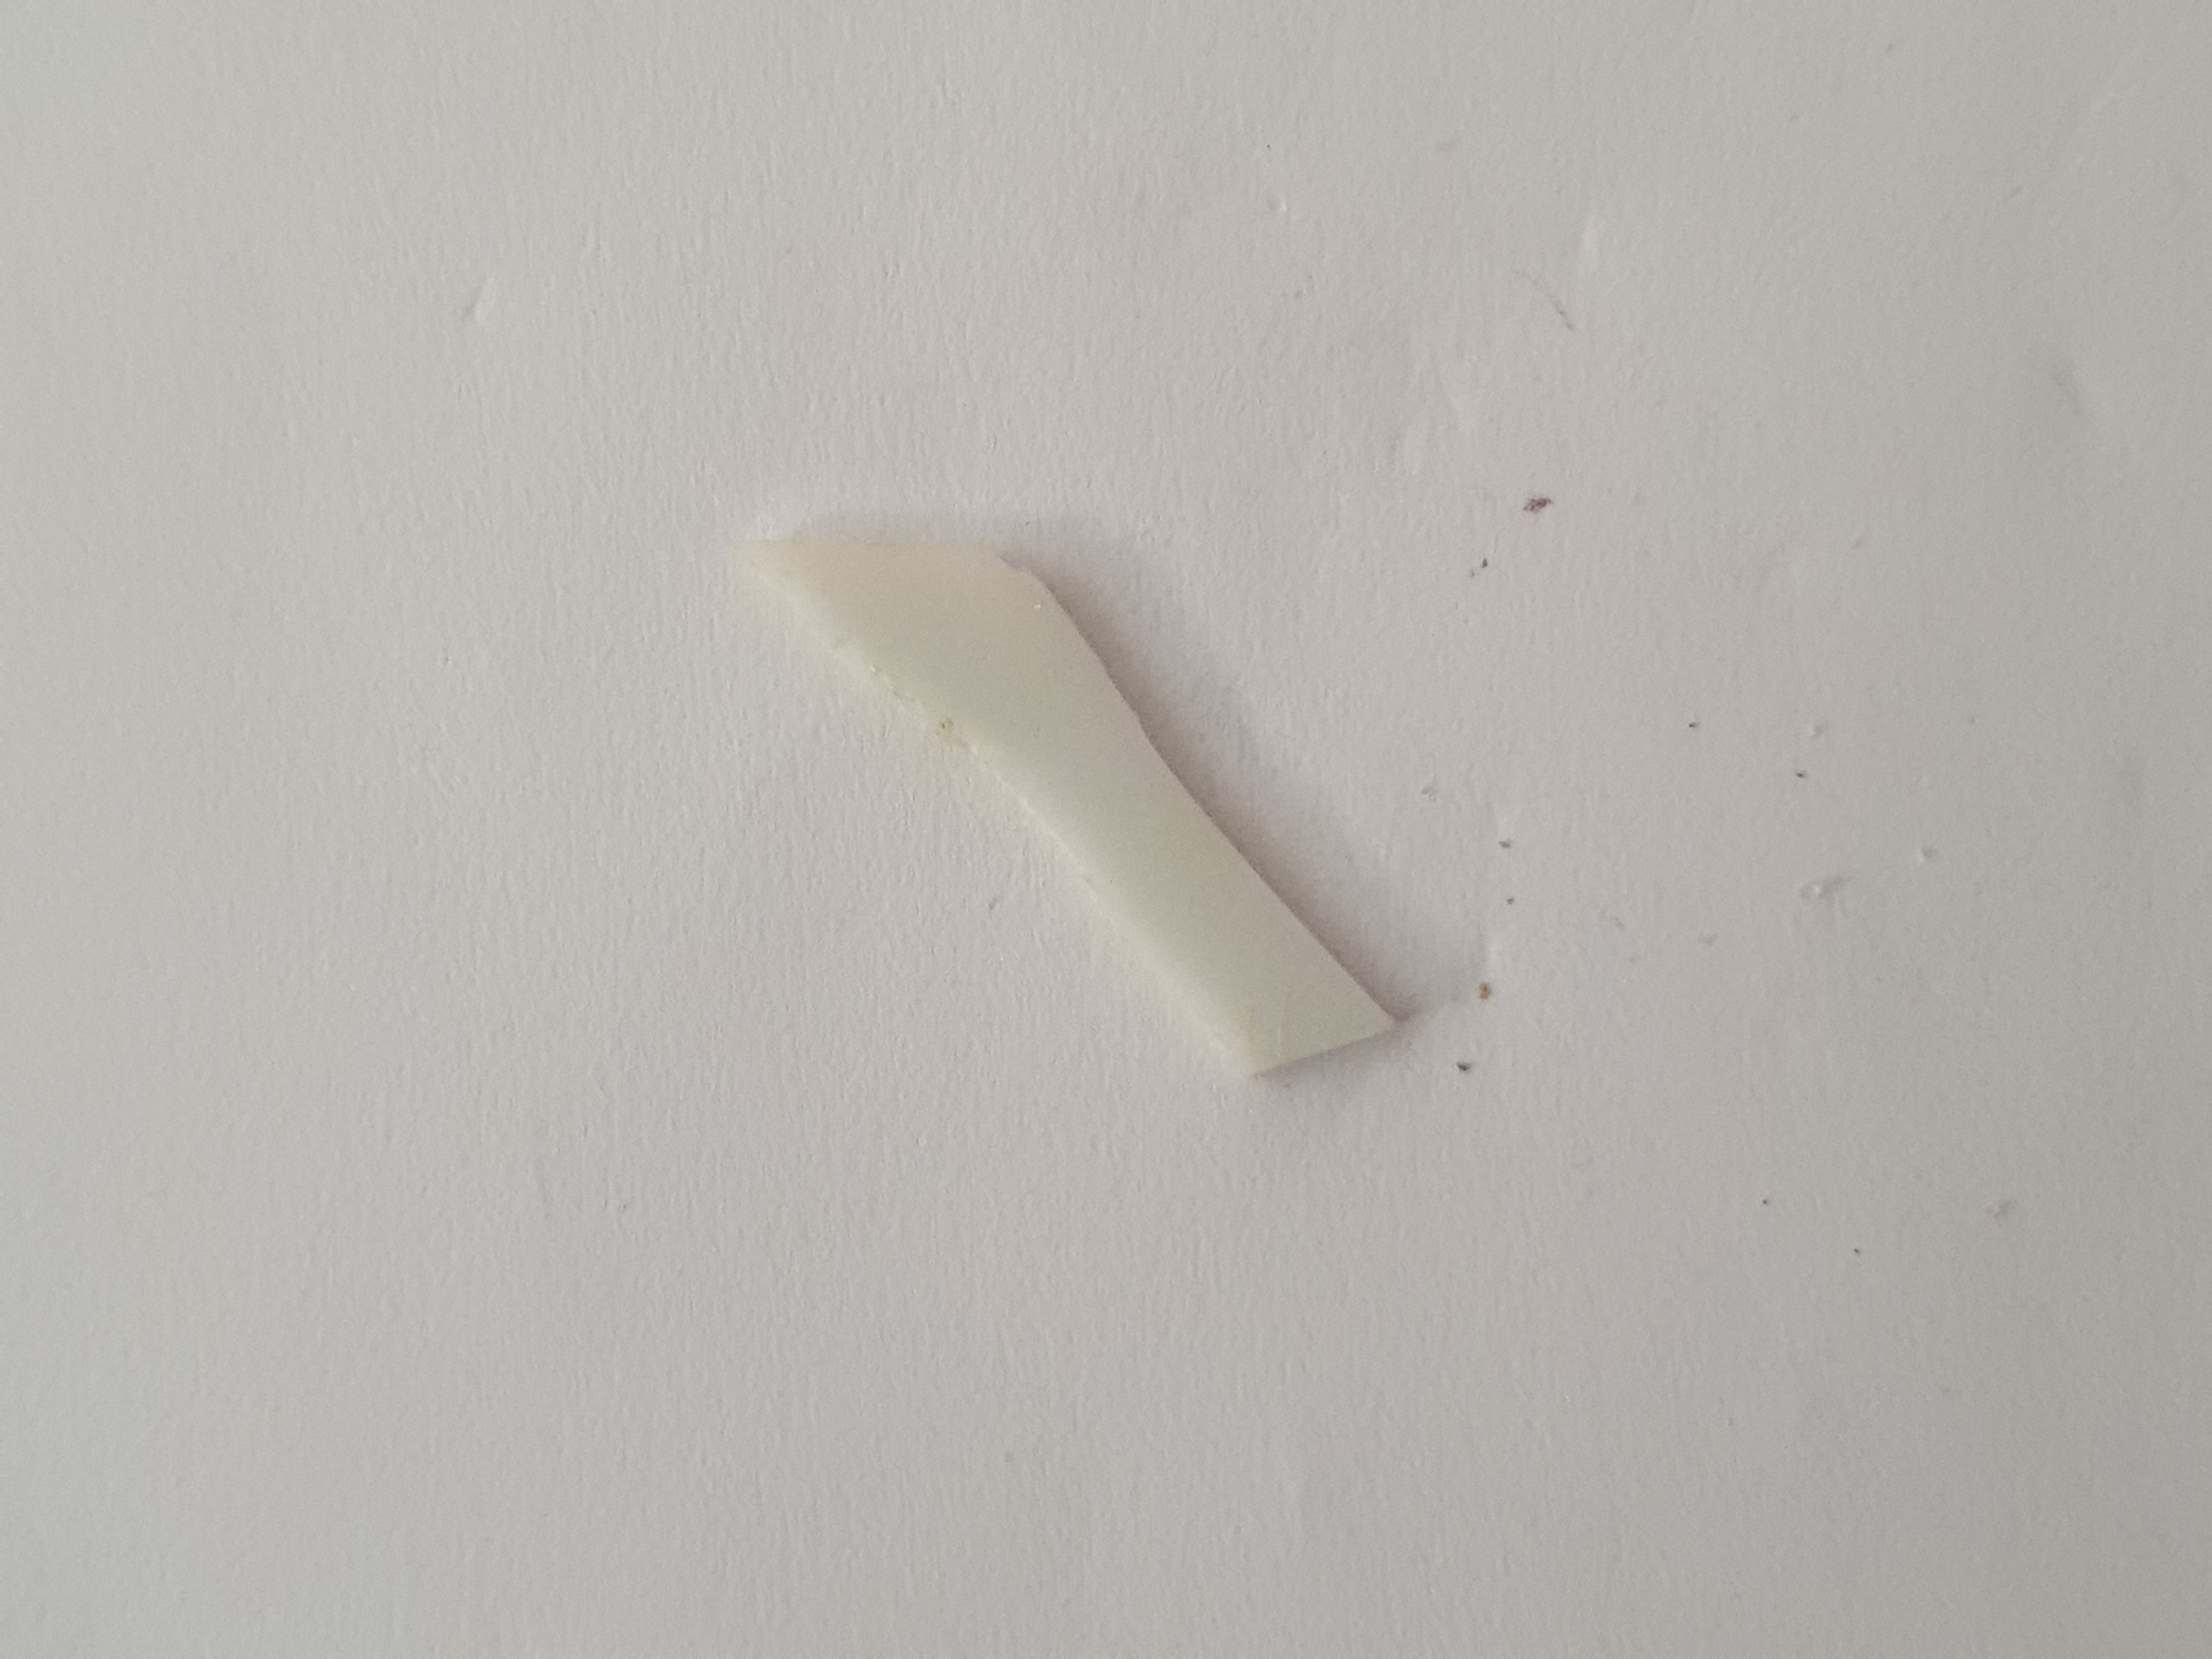plastic: (747, 505, 1437, 1115)
